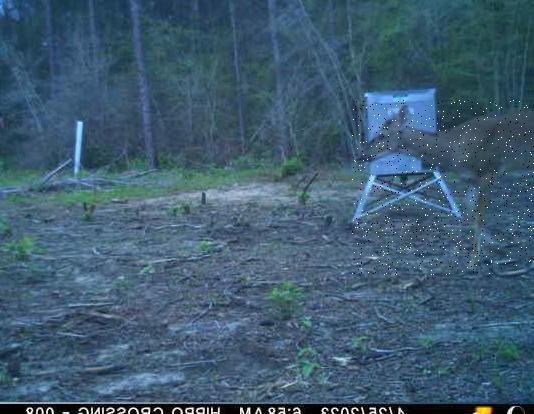Deer: (352, 100, 534, 275)
